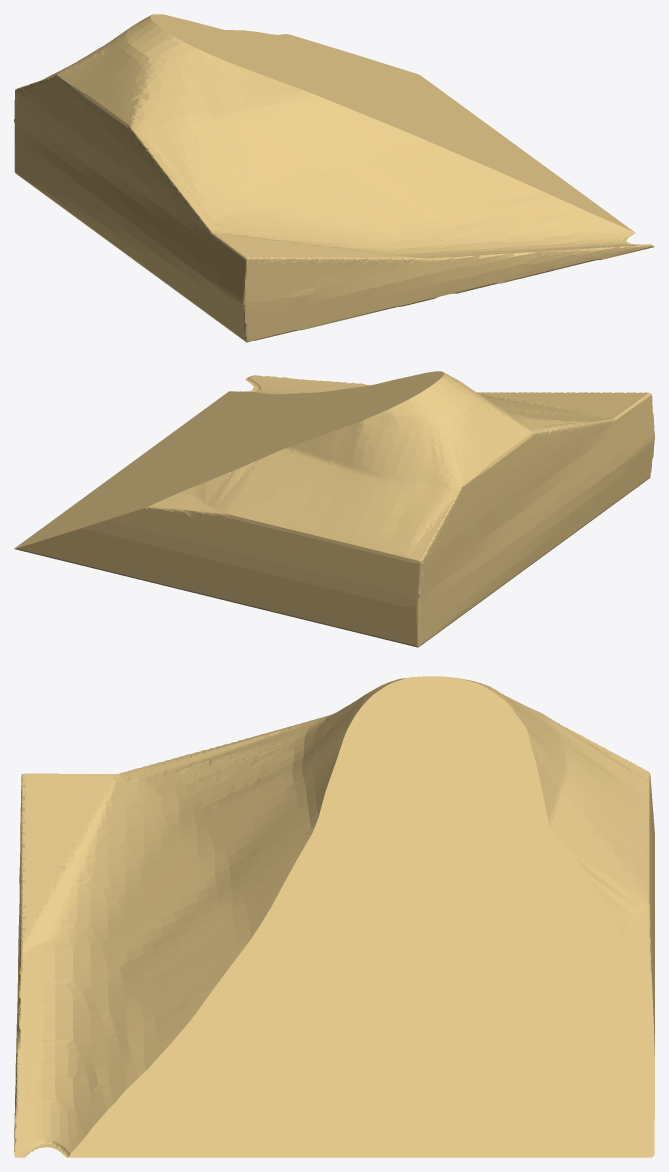
File: sadeishita.glb
3 views of the same model, one above another, from view 1: azimuth 30°, elevation 25°; view 2: azimuth 150°, elevation 25°; view 3: azimuth 270°, elevation 25° (orthographic). The views are drawn at different scales.
Parts seen in each view (by area): view 1: sadeishita; view 2: sadeishita; view 3: sadeishita.
Part boxes in pixels (left/top/right/bottom): sadeishita: left=14, top=14, right=654, bottom=342; sadeishita: left=14, top=371, right=654, bottom=647; sadeishita: left=14, top=676, right=654, bottom=1157.
Bounding box in the file's own units: 14.48 × 6.39 × 14.46.
